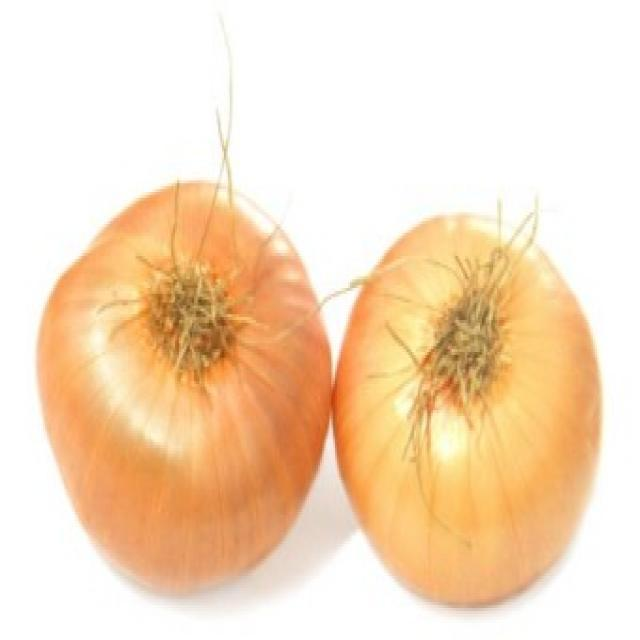Onion: (37, 70, 333, 599), (337, 189, 604, 609)
